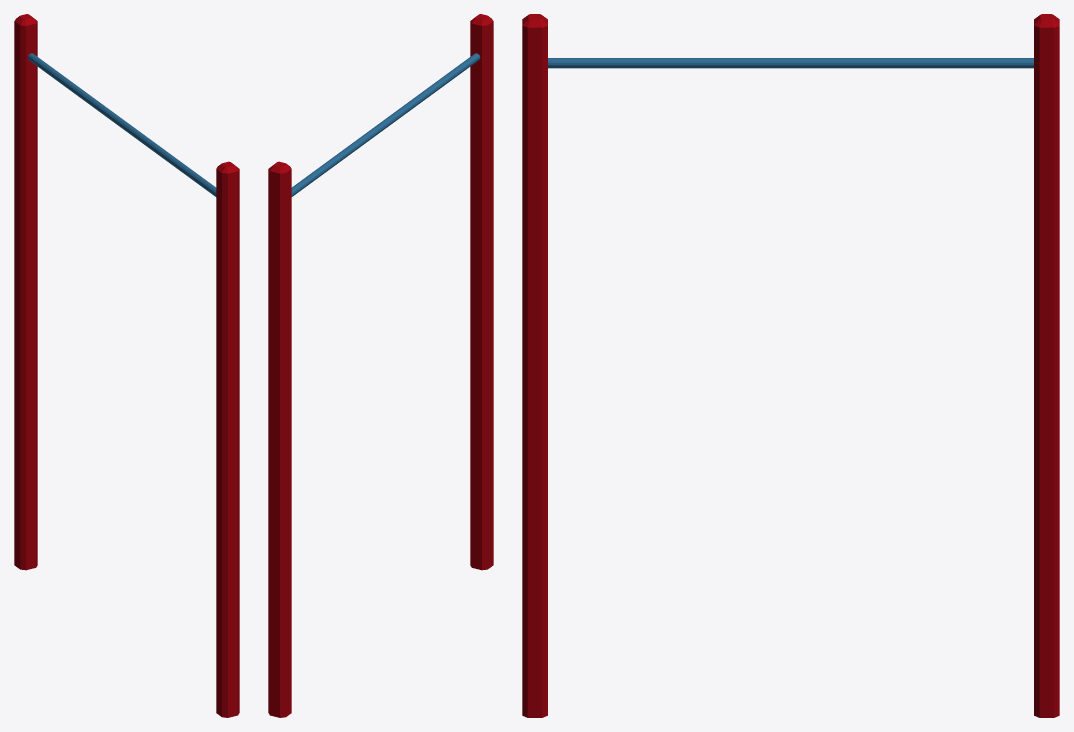
The model's file is pullup.glb.
3 views of the same model, side by side, from view 1: azimuth 30°, elevation 25°; view 2: azimuth 150°, elevation 25°; view 3: azimuth 270°, elevation 25° (orthographic). The views are drawn at different scales.
Size of the model in its own units: 0.4999 by 15 by 10.5.
